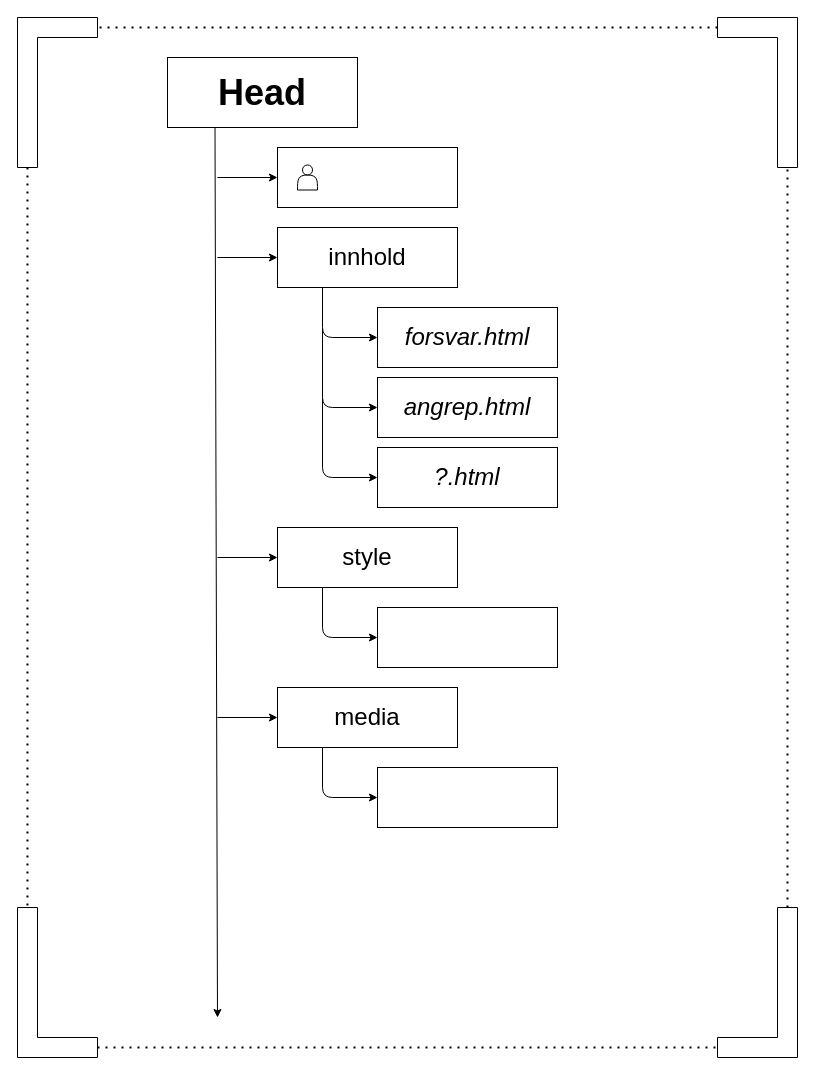
This 815x1075 diagram has some shape labels left out. Here are the shapes that lost their labels. From the top down, the box of each, then its label:
(276, 146, 458, 208): index.html
(376, 606, 558, 668): general.css
(376, 766, 558, 828): background.png
